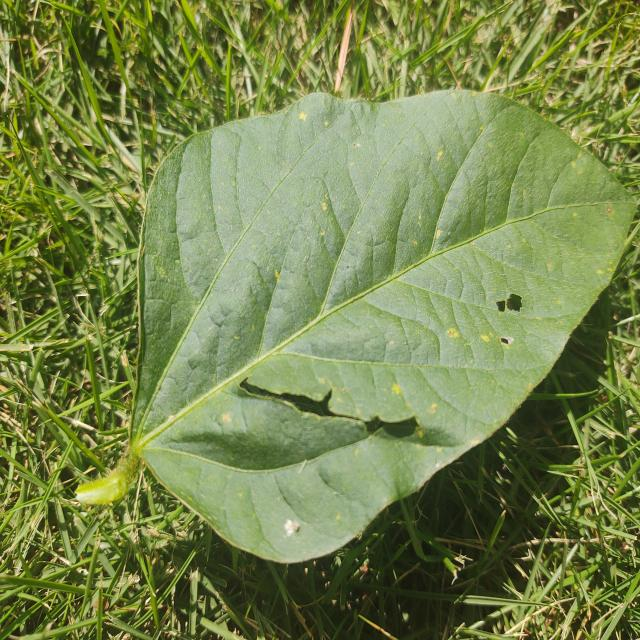Soybean: (74, 88, 640, 568)
downey_mildew: (451, 203, 635, 330), (146, 276, 246, 436), (415, 352, 548, 452), (261, 180, 346, 332), (380, 278, 487, 382), (169, 132, 225, 298), (168, 424, 353, 467), (508, 121, 576, 221), (356, 269, 441, 346), (542, 151, 629, 225), (411, 219, 514, 273), (210, 120, 248, 256), (271, 459, 349, 525), (436, 152, 490, 247), (215, 468, 273, 554), (417, 246, 493, 309), (479, 222, 542, 288), (523, 209, 596, 256)
